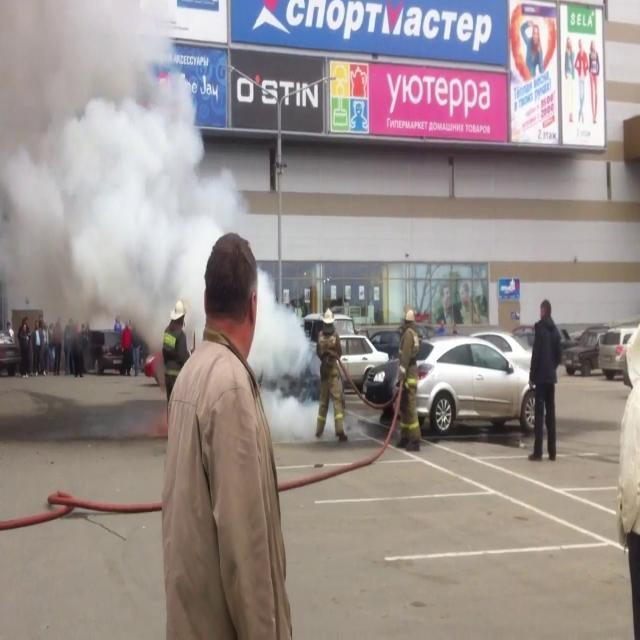Smoke: (0, 0, 240, 329), (250, 264, 316, 408)
